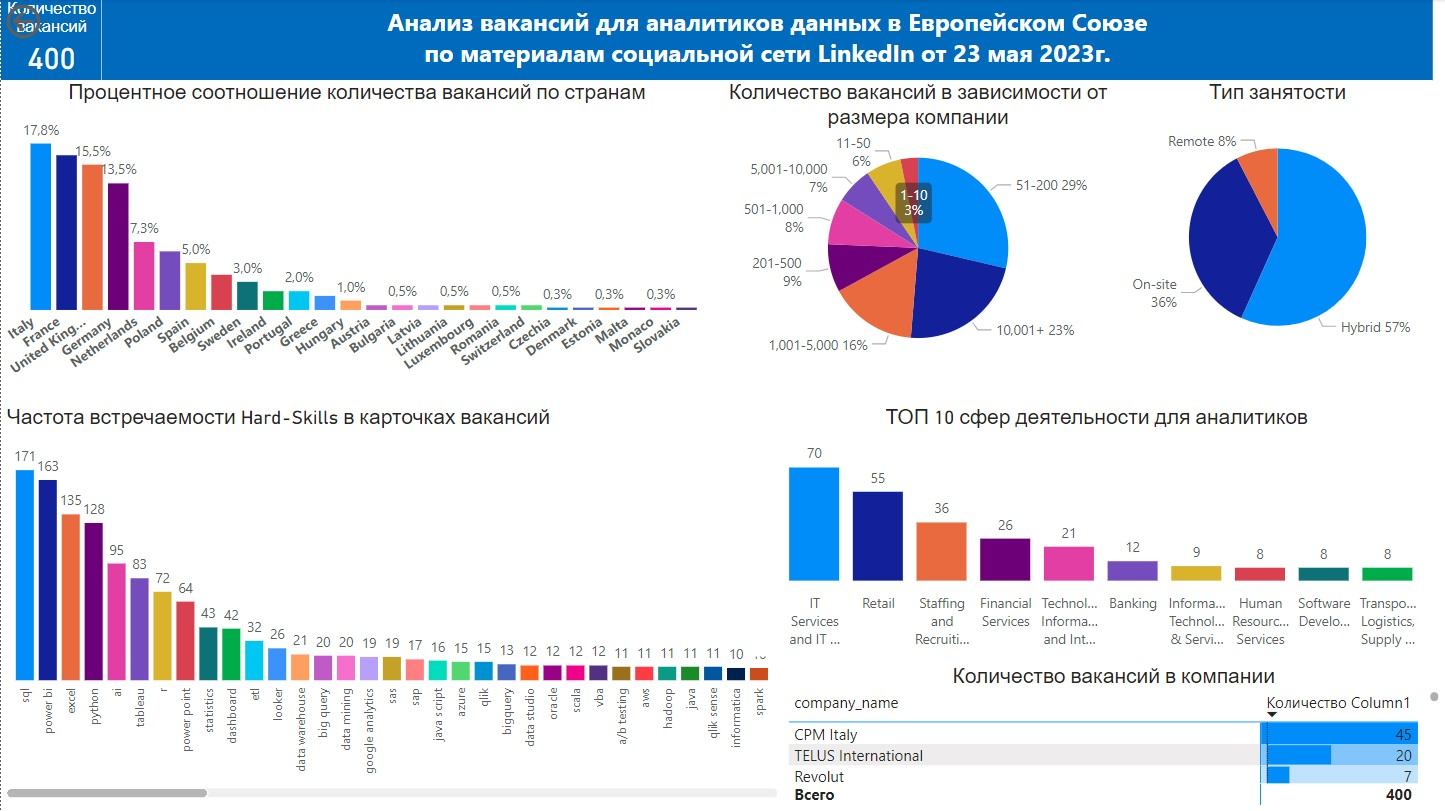

The dashboard page shown, as its layout file describes it:
{"tool":"powerbi","page":{"name":"Страница 1","canvas":[1280,720],"ordinal":0},"visuals":[{"type":"columnChart","title":"Частота встречаемости Hard-Skills в карточках вакансий","fields":{"Category":["df_explode_linkedin.hard_skills"],"Y":["CountNonNull(df_explode_linkedin.hard_skills)"],"Series":["df_explode_linkedin.hard_skills"]},"box":[0,359.9,693.5,353.1],"z":0},{"type":"card","title":"Количество вакансий","fields":{"Values":["Count(df_explode_linkedin.Column1)"]},"box":[0,0,89.5,72],"z":1000},{"type":"textbox","box":[89.5,0,1179.8,72],"z":2000},{"type":"actionButton","box":[0,0,100.2,39.9],"z":3000},{"type":"columnChart","title":"Процентное соотношение количества вакансий по странам","fields":{"Category":["df_explode_linkedin.country"],"Y":["Sum(df_explode_linkedin.Column1)"],"Series":["df_explode_linkedin.country"]},"box":[0,72,631.2,287.9],"z":4000},{"type":"pieChart","title":"Тип занятости","fields":{"Category":["df_explode_linkedin.workplace_type"],"Y":["CountNonNull(df_explode_linkedin.workplace_type)"]},"box":[995,72,274.3,259.7],"z":5000},{"type":"pivotTable","title":"Количество вакансий в компании","fields":{"Rows":["df_explode_linkedin.company_name"],"Values":["Count(df_explode_linkedin.Column1)"]},"box":[693.5,589.4,586.5,130.3],"z":6000},{"type":"columnChart","title":"ТОП 10 сфер деятельности для аналитиков","fields":{"Category":["df_explode_linkedin.activity_field"],"Y":["Count(df_explode_linkedin.Column1)"],"Series":["df_explode_linkedin.activity_field"]},"box":[663.3,359.9,616.7,222.7],"z":7000},{"type":"pieChart","title":"Количество вакансий в зависимости от размера компании","fields":{"Category":["df_explode_linkedin.employees_qvt"],"Y":["Count(df_explode_linkedin.Column1)"]},"box":[631.2,72,363.8,259.7],"z":8000}]}

Visuals, with their boxes in screenshot pixels (x1, y1, x2, y2), scaled from the page's 1280x720 canvas onto the 1445x811 screenshot:
"Частота встречаемости Hard-Skills в карточках вакансий" columnChart: bbox(0, 405, 783, 803)
"Количество вакансий" card: bbox(0, 0, 101, 81)
textbox: bbox(101, 0, 1433, 81)
actionButton: bbox(0, 0, 113, 45)
"Процентное соотношение количества вакансий по странам" columnChart: bbox(0, 81, 713, 405)
"Тип занятости" pieChart: bbox(1123, 81, 1433, 374)
"Количество вакансий в компании" pivotTable: bbox(783, 664, 1444, 810)
"ТОП 10 сфер деятельности для аналитиков" columnChart: bbox(749, 405, 1444, 656)
"Количество вакансий в зависимости от размера компании" pieChart: bbox(713, 81, 1123, 374)
